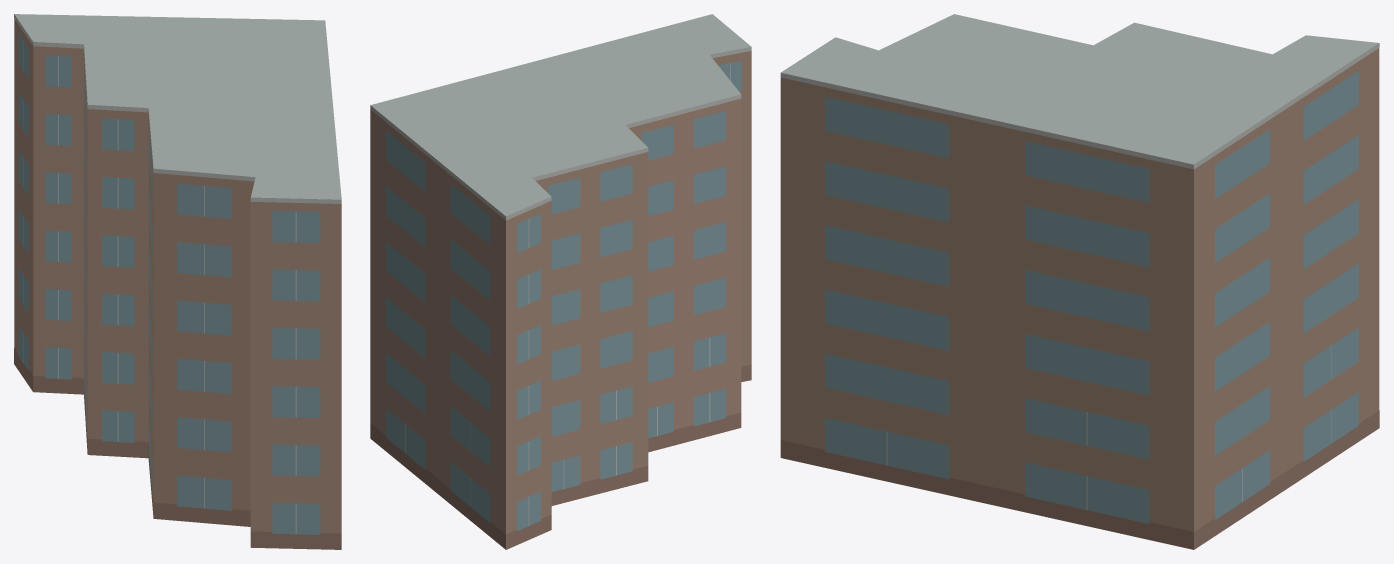
The model's file is survey-upis-32721421.glb.
The picture shows the model from 3 angles, left to right: view 1: azimuth 30°, elevation 25°; view 2: azimuth 150°, elevation 25°; view 3: azimuth 270°, elevation 25°; orthographic projection. The views are drawn at different scales.
Visible parts, largest first — view 1: survey-upis-32721421.tmp; view 2: survey-upis-32721421.tmp; view 3: survey-upis-32721421.tmp.
Part boxes in pixels (x1,y1,x2,y2): survey-upis-32721421.tmp: (14, 14, 341, 549); survey-upis-32721421.tmp: (370, 14, 751, 549); survey-upis-32721421.tmp: (780, 14, 1379, 549).
Size of the model in its own units: 16.62 by 19.8 by 27.9.
